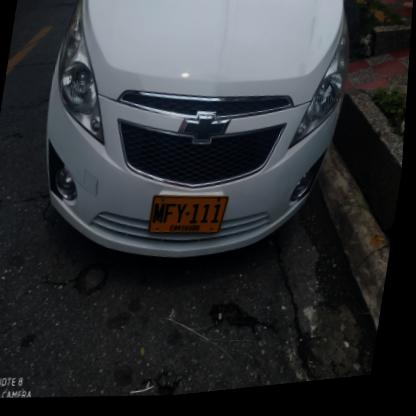placa: (147, 189, 234, 250)
